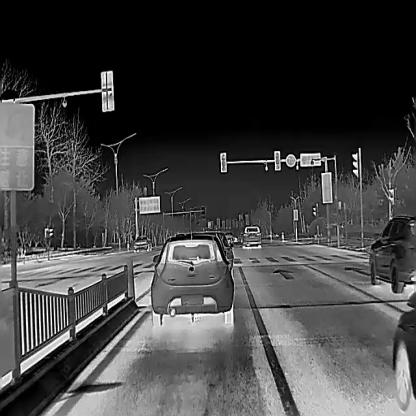car: (150, 235, 233, 325), (366, 214, 416, 294), (392, 291, 416, 412), (178, 230, 233, 266), (239, 223, 261, 248), (132, 236, 152, 252)
truck: (224, 230, 234, 242)
